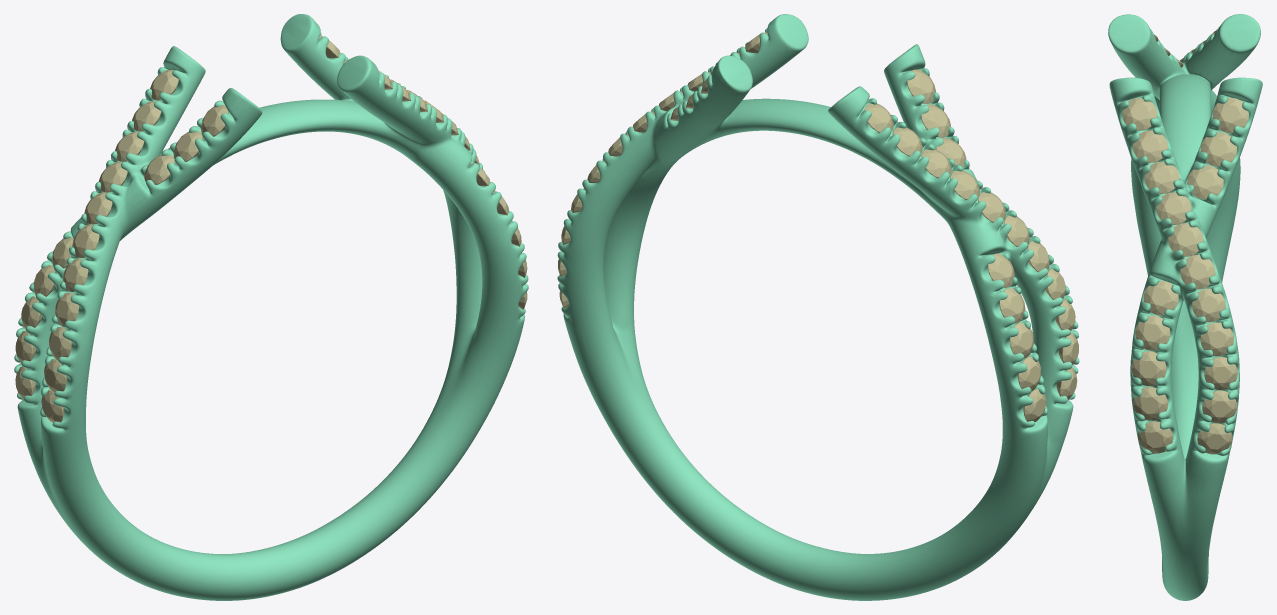
The picture shows the model from 3 angles, left to right: view 1: azimuth 30°, elevation 25°; view 2: azimuth 150°, elevation 25°; view 3: azimuth 270°, elevation 25°; orthographic projection.
Visible parts, largest first — view 1: Metal02; view 2: Metal02; view 3: Metal02, Diamond_Gem.015, Diamond_Gem.013, Diamond_Gem.014, Diamond_Gem.003, Diamond_Gem.004, Diamond_Gem.010, Diamond_Gem.002, Diamond_Gem.009, Diamond_Gem.001, Diamond_Gem.008, Diamond_Gem.005 (+8 smaller).
Part boxes in pixels (x1,y1,x2,y2): Metal02: (14,14,528,600); Metal02: (557,14,1079,600); Metal02: (1108,14,1262,600); Diamond_Gem.015: (1212,97,1248,132); Diamond_Gem.013: (1187,165,1223,199); Diamond_Gem.014: (1200,132,1236,166); Diamond_Gem.003: (1135,315,1170,350); Diamond_Gem.004: (1143,280,1178,315); Diamond_Gem.010: (1180,255,1215,289); Diamond_Gem.002: (1131,351,1166,385); Diamond_Gem.009: (1168,223,1203,256); Diamond_Gem.001: (1133,387,1167,420); Diamond_Gem.008: (1156,192,1191,224); Diamond_Gem.005: (1122,98,1157,130).
Bounding box in the file's own units: 21.01 × 22.47 × 5.94.
